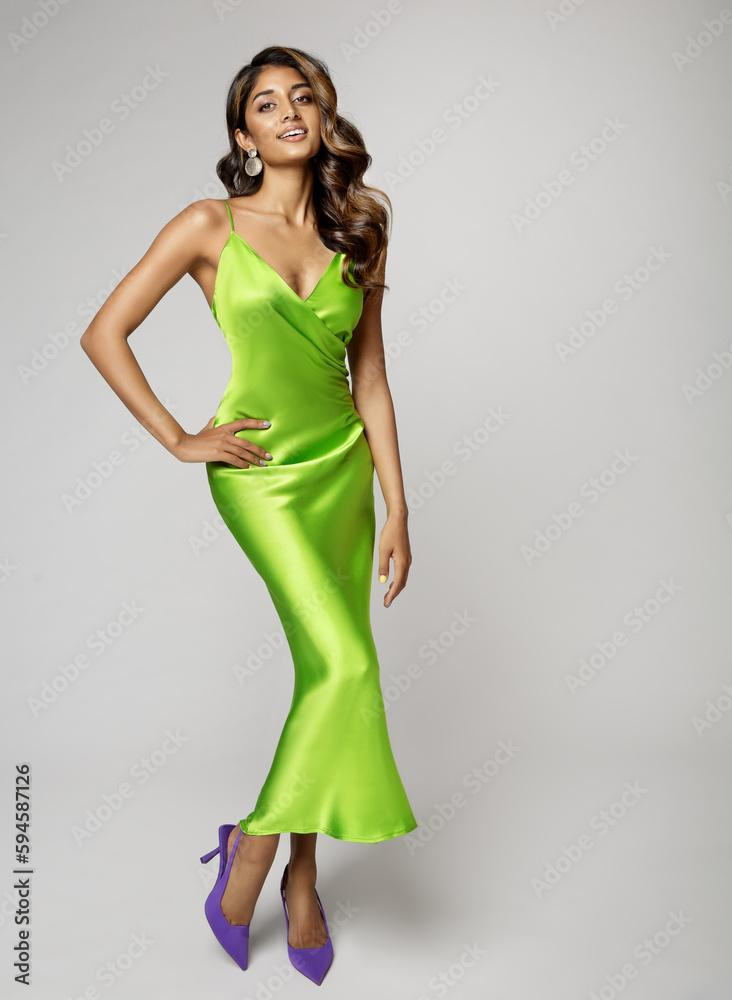Human: (108, 38, 498, 956)
